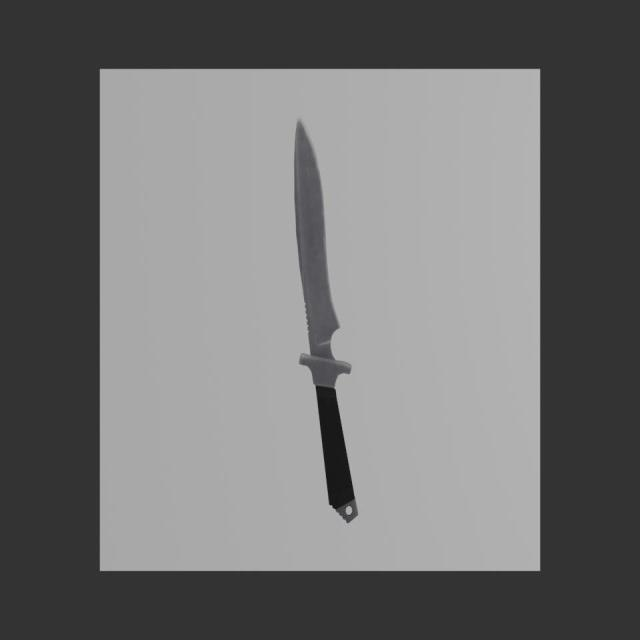knife: (316, 385, 358, 523)
